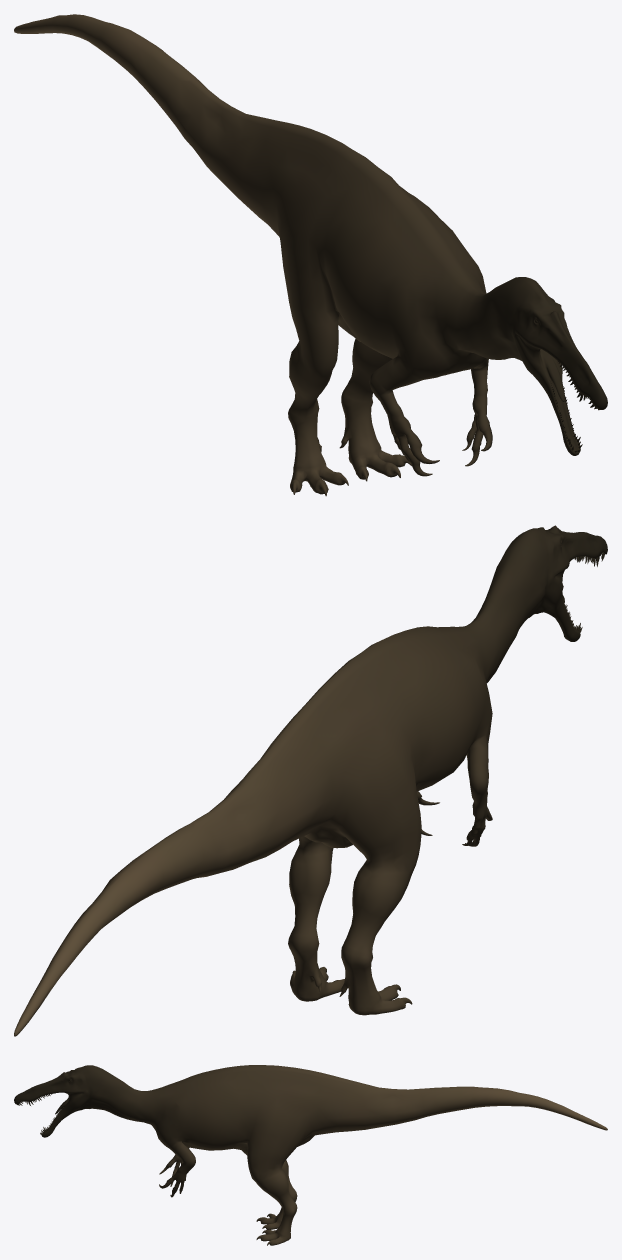
File: baryonyx.glb
3 renders of one model, top to bottom at view 1: azimuth 30°, elevation 25°; view 2: azimuth 150°, elevation 25°; view 3: azimuth 270°, elevation 25°, orthographic. The views are drawn at different scales.
Parts seen in each view (by area): view 1: baryonyx; view 2: baryonyx; view 3: baryonyx.
Boxes of the visible parts, box(x1,y1,x2,y2) form: baryonyx: box(14, 14, 607, 496); baryonyx: box(14, 525, 607, 1036); baryonyx: box(14, 1065, 607, 1245).
Bounding box in the file's own units: 1.38 × 3.71 × 11.9.
